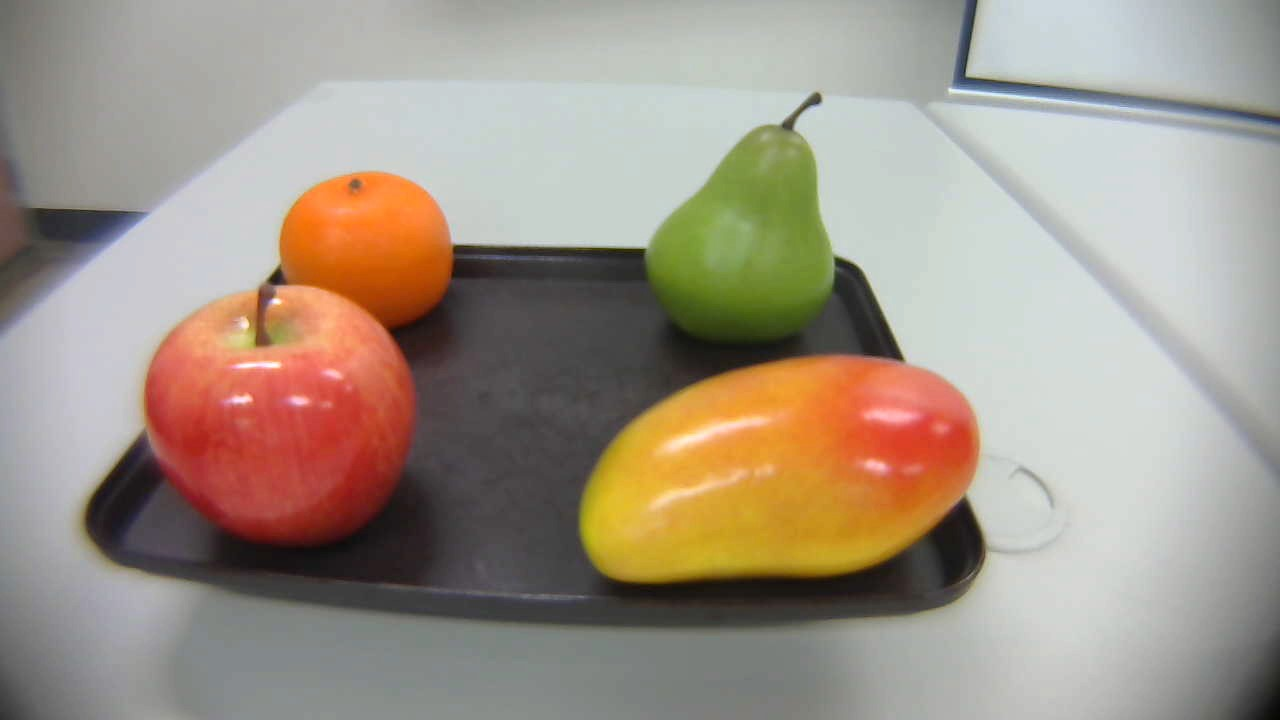green pear: (635, 86, 845, 348)
orange: (268, 168, 460, 329)
red apple: (132, 284, 423, 546)
red mango: (577, 354, 985, 599)
